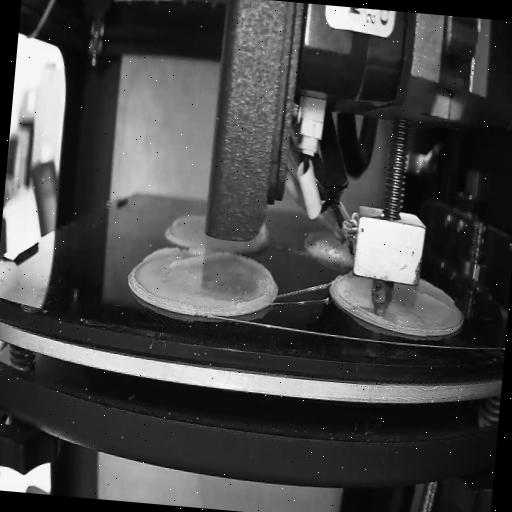over_extrusion: (142, 242, 228, 276), (232, 254, 282, 287), (408, 288, 448, 305)
